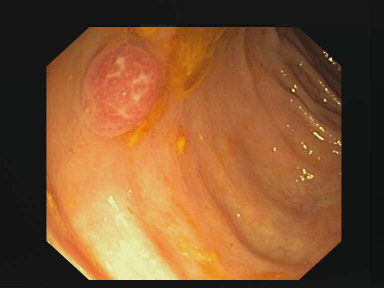polyp: (80, 39, 162, 139)
